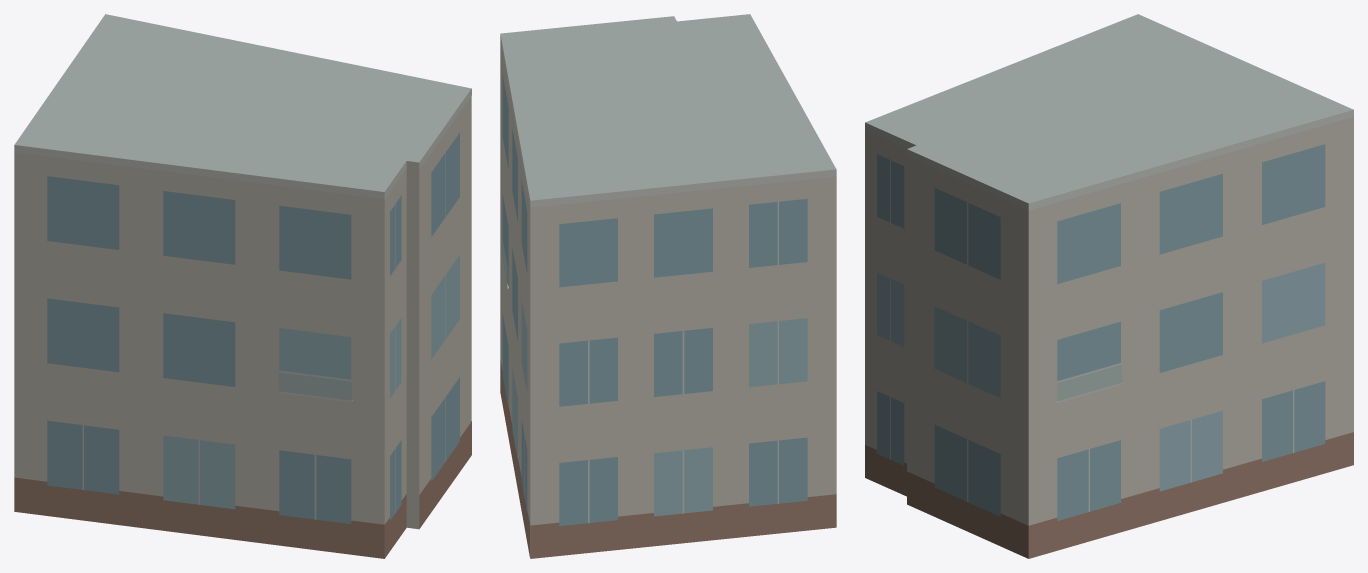
The model's file is survey-upis-32671388.glb.
The picture shows the model from 3 angles, left to right: view 1: azimuth 30°, elevation 25°; view 2: azimuth 150°, elevation 25°; view 3: azimuth 270°, elevation 25°; orthographic projection. The views are drawn at different scales.
Visible parts, largest first — view 1: survey-upis-32671388.tmp; view 2: survey-upis-32671388.tmp; view 3: survey-upis-32671388.tmp.
Part boxes in pixels (x1,y1,x2,y2): survey-upis-32671388.tmp: [14, 14, 471, 558]; survey-upis-32671388.tmp: [500, 14, 836, 558]; survey-upis-32671388.tmp: [865, 14, 1353, 558].
Bounding box in the file's own units: 14.07 × 12.3 × 15.34.
